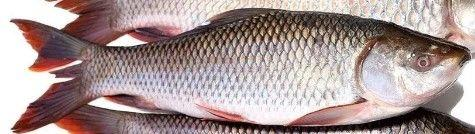Indian Carp: (11, 8, 470, 134)
